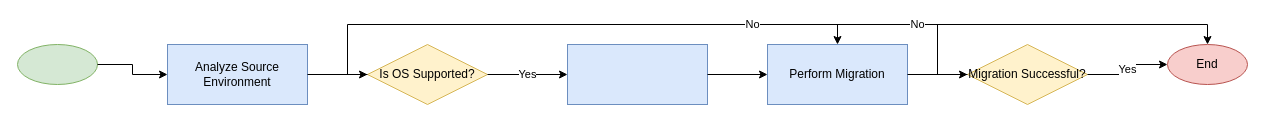
Some shapes in this 1265 by 122 pixel diagram are drawn without their labels. Here are the shapes that lost their labels. From the top down, the box of each, then its label:
(16, 44, 98, 84): Start
(566, 44, 708, 104): Select Migration Tool
